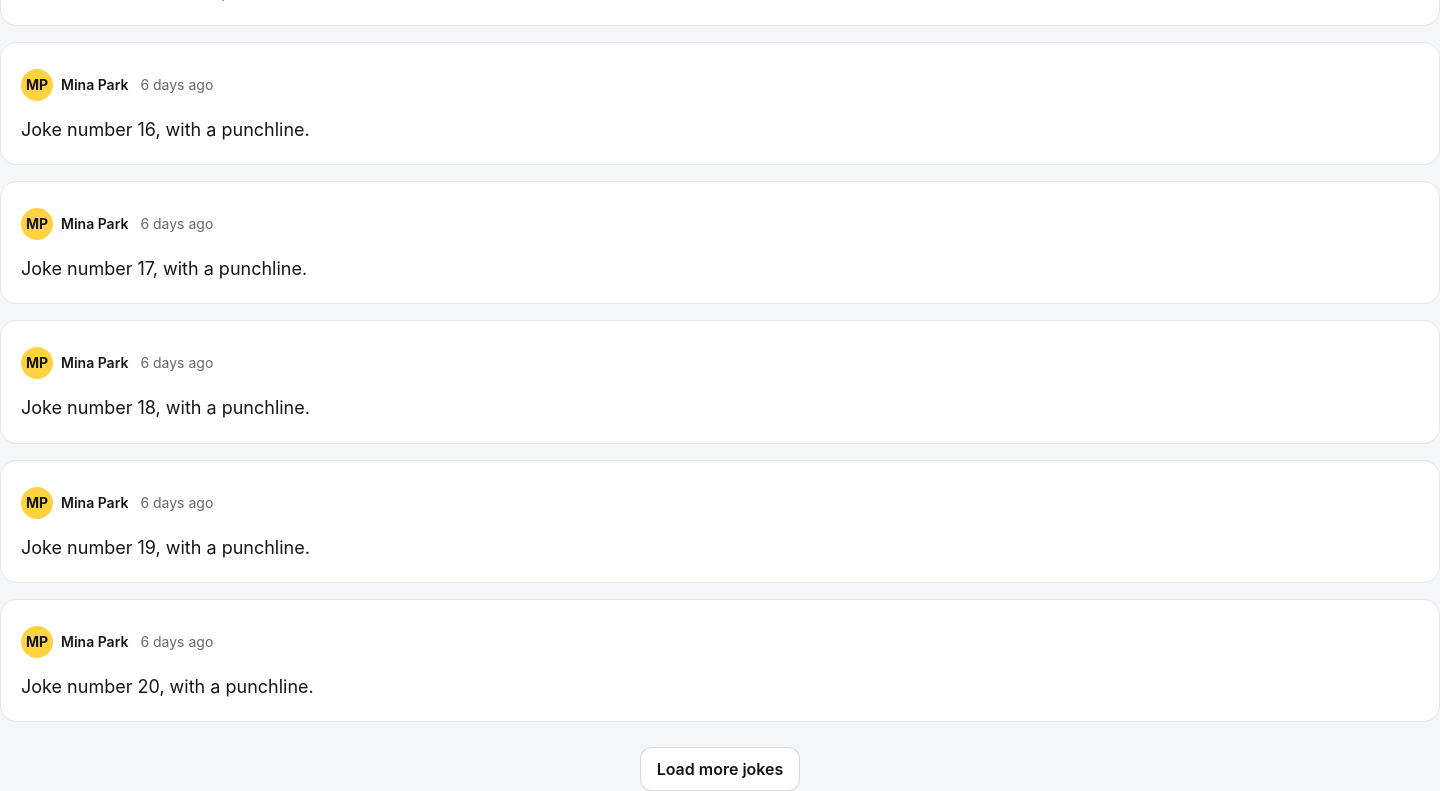
Test: LazyJokeList › treats a network failure as an error too
The image size is (1440, 791).
(page scrolled)
What coordinates should you click on to do the following:
click the button "Load more jokes"
I would click on:
 (720, 769)
Its box is [640, 747, 800, 790].
(page scrolled)
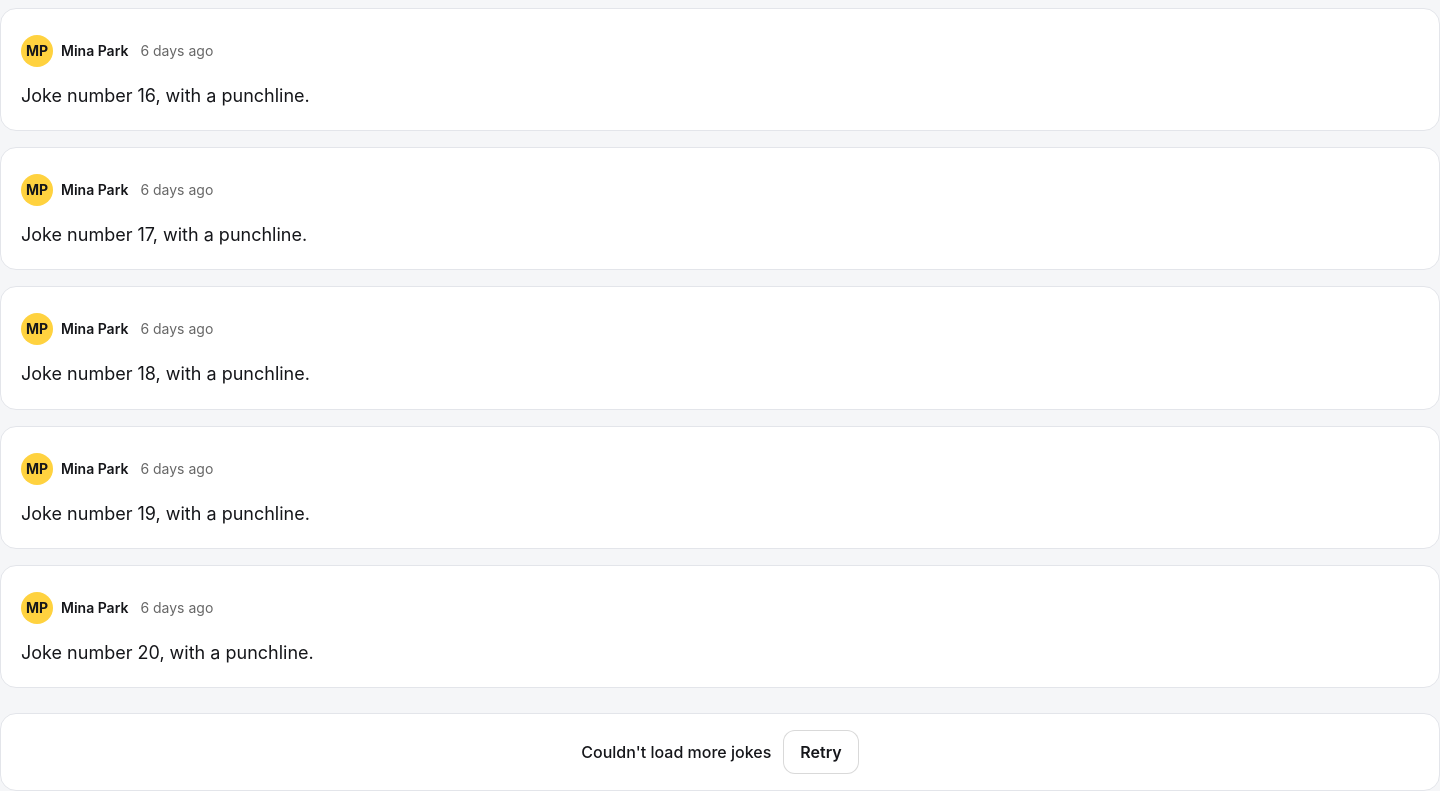
Expected: the button "Retry" is shown, [783, 730, 859, 774]
